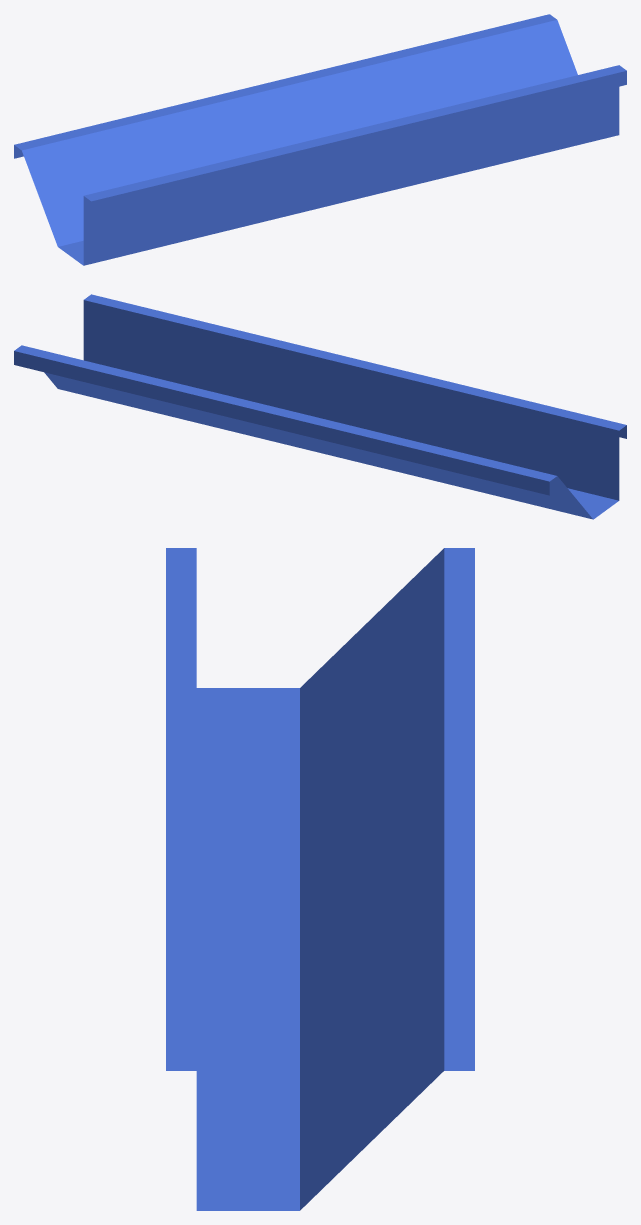
File: Ceiling_4x1m_A.FBX
The picture shows the model from 3 angles, top to bottom: view 1: azimuth 30°, elevation 25°; view 2: azimuth 150°, elevation 25°; view 3: azimuth 270°, elevation 25°; orthographic projection. The views are drawn at different scales.
Visible parts, largest first — view 1: Ceiling_4x1m_A; view 2: Ceiling_4x1m_A; view 3: Ceiling_4x1m_A.
Part boxes in pixels (left/top/right/bottom): Ceiling_4x1m_A: left=14, top=14, right=626, bottom=265; Ceiling_4x1m_A: left=14, top=294, right=626, bottom=519; Ceiling_4x1m_A: left=166, top=548, right=474, bottom=1210.
Bounding box in the file's own units: 400 × 50 × 100.
